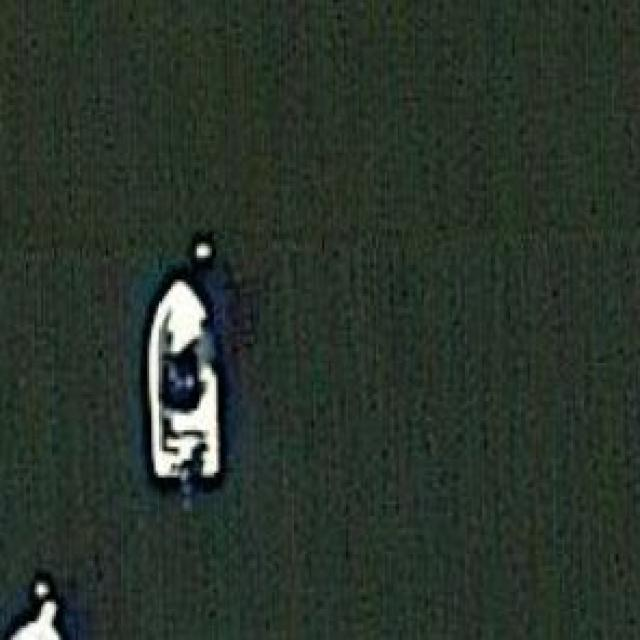ship: (142, 267, 235, 485)
